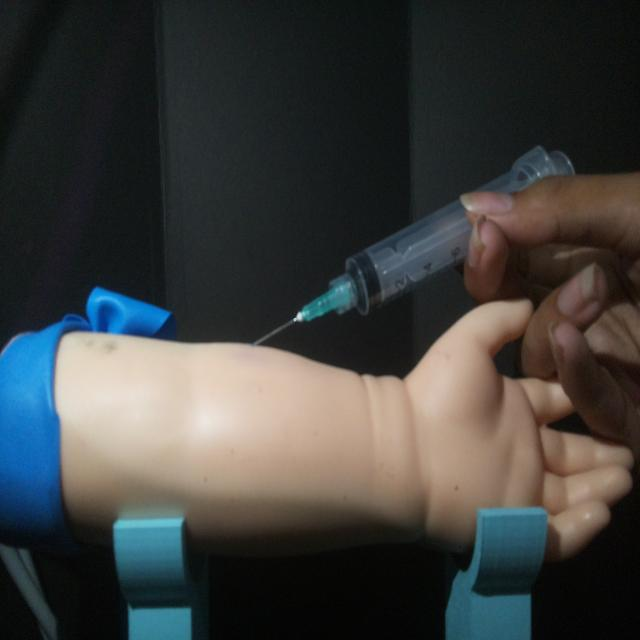29deg: (247, 140, 578, 350)
